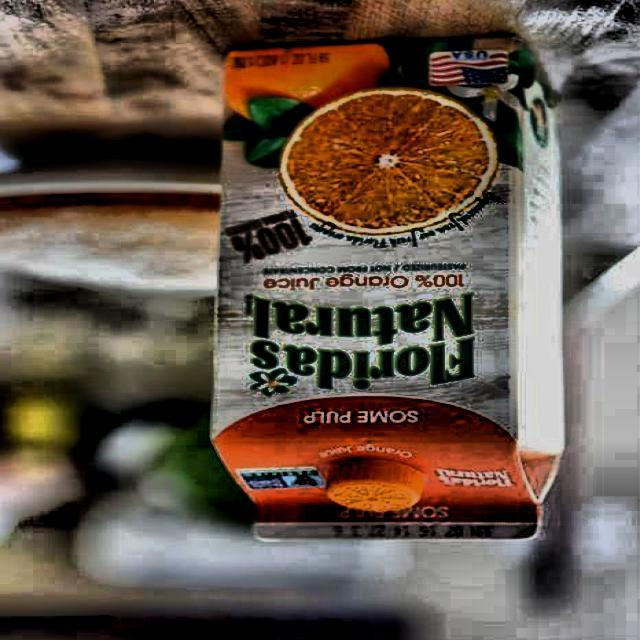cardboard: (210, 35, 566, 542)
